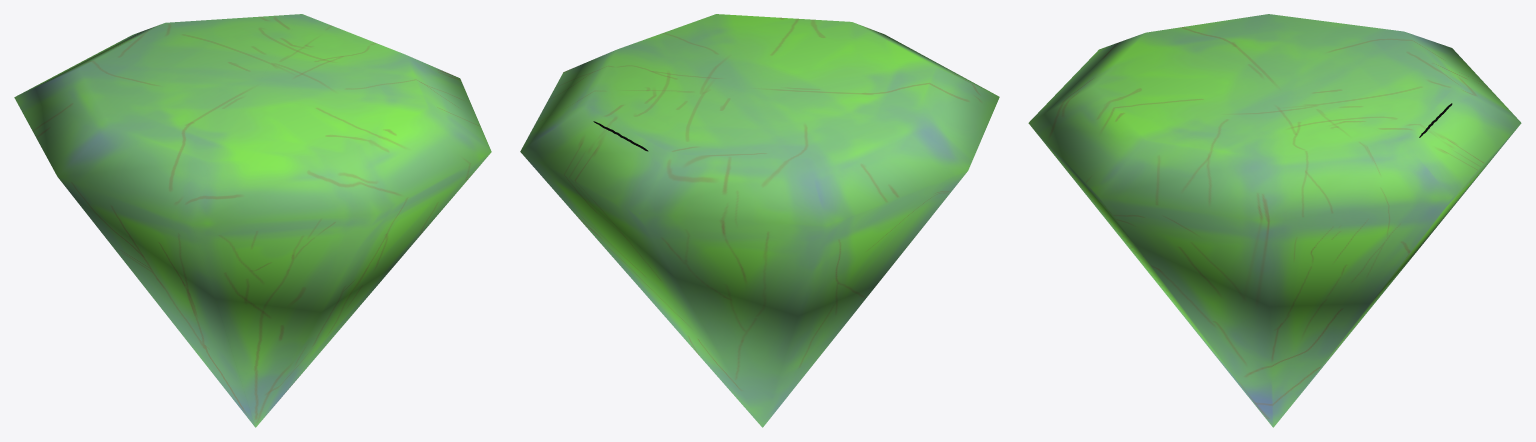
File: chaos emerl.fbx
3 views of the same model, side by side, from view 1: azimuth 30°, elevation 25°; view 2: azimuth 150°, elevation 25°; view 3: azimuth 270°, elevation 25° (orthographic).
Parts seen in each view (by area): view 1: low; view 2: low; view 3: low.
Part boxes in pixels (box(x1,y1,x2,y2)): low: box(14, 14, 491, 427); low: box(520, 14, 999, 427); low: box(1028, 14, 1521, 427).
Size of the model in its own units: 133 by 107 by 140.
